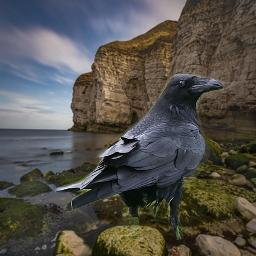Crow: (54, 74, 224, 240)
